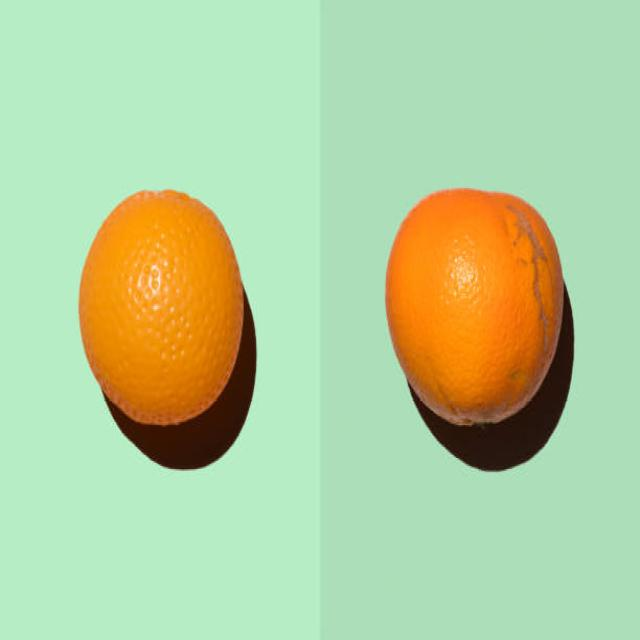orange: (387, 188, 563, 424), (78, 190, 244, 425)
